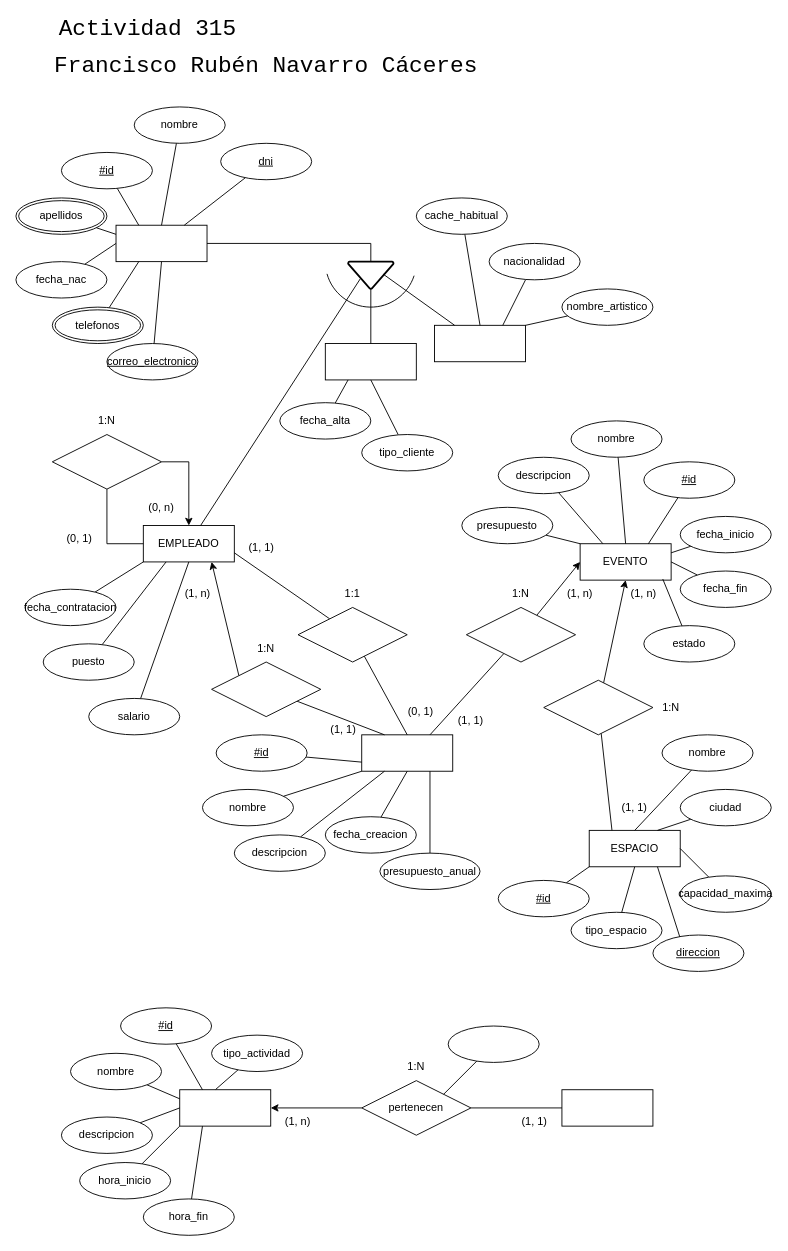
This 788x1251 diagram has some shape labels left out. The shapes that lost their labels are listed below. From the top down, each one's centre as x and y in pixels, then its label:
At [161,243]: "PERSONA".
At [370,361]: "CLIENTE".
At [480,343]: "ARTISTA".
At [106,461]: "es responsable".
At [352,634]: "dirige".
At [520,634]: "organiza".
At [266,689]: "pertenece".
At [598,707]: "alberga".
At [407,752]: "DEPARTAMENTO".
At [493,1043]: "num_orden".
At [225,1107]: "ACTIVIDAD".
At [607,1107]: "EVENTO*".
